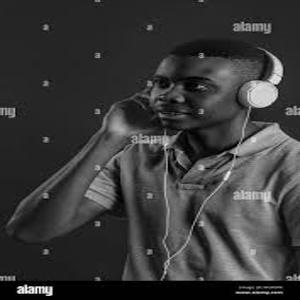Headphones: (225, 42, 286, 110)
